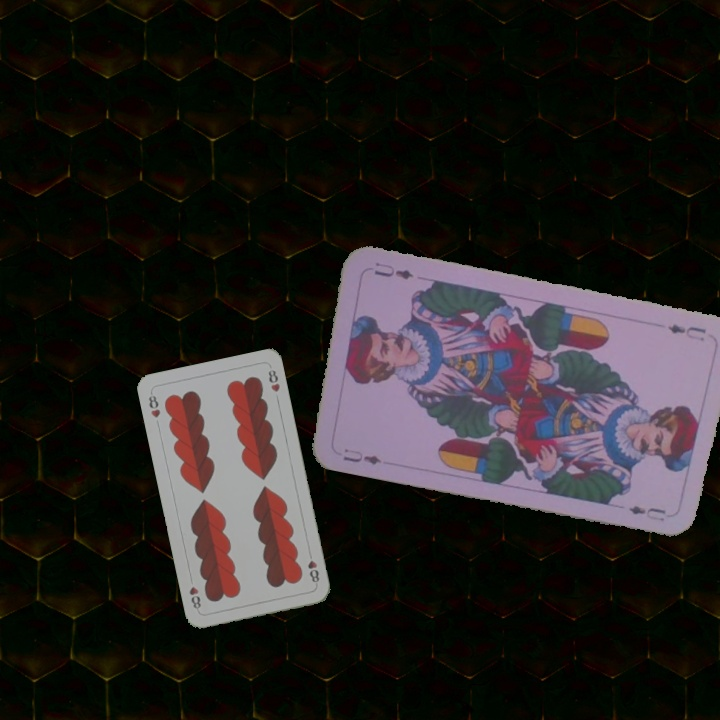EU: (664, 320, 709, 344), (338, 444, 384, 467)
H8: (144, 388, 163, 420), (304, 556, 322, 587)
